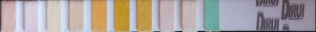color 1: (2, 2, 14, 31)
color 10: (205, 1, 218, 29)
color 2: (25, 2, 39, 31)
color 3: (48, 3, 60, 30)
color 4: (71, 3, 82, 32)
color 5: (93, 2, 106, 31)
color 6: (115, 2, 128, 30)
color 7: (138, 1, 151, 30)
color 8: (160, 1, 172, 30)
color 9: (183, 2, 195, 30)
